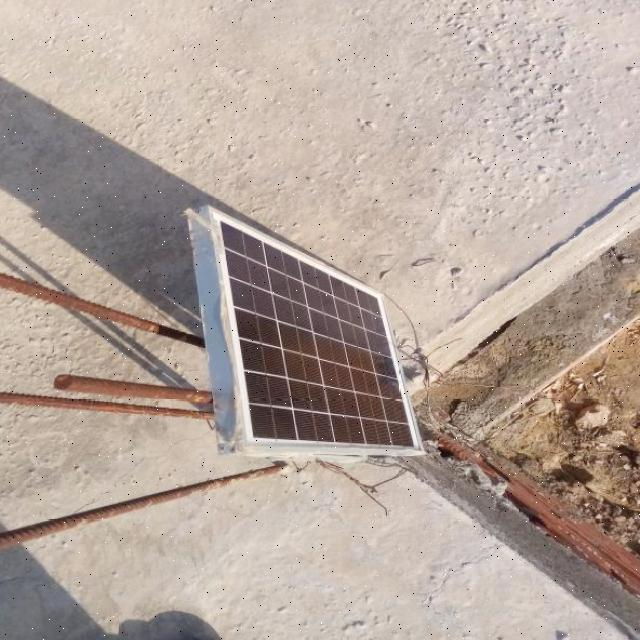Normal Solar Panel: (210, 207, 424, 453)
